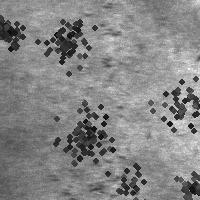rolled-in_scale: (70, 138, 178, 200), (40, 132, 138, 199), (47, 95, 125, 173), (141, 63, 200, 153), (32, 6, 100, 74), (81, 1, 125, 92), (162, 157, 200, 200), (0, 6, 28, 54)
